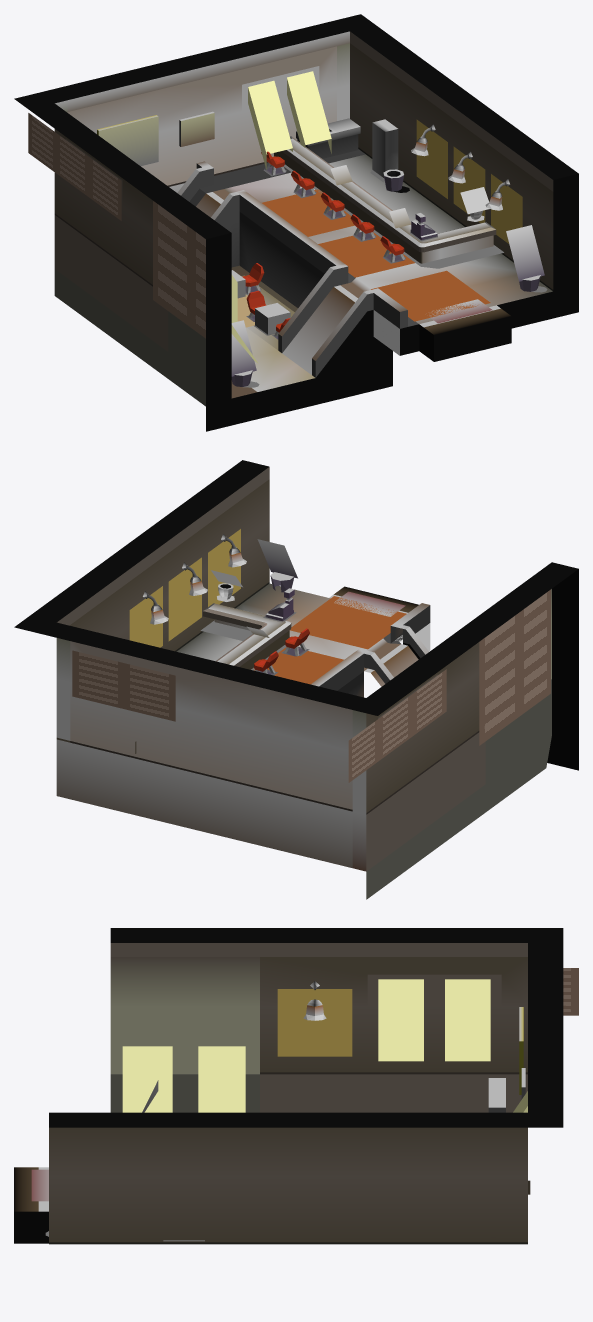
File: cafe_warehouse_interior.obj
3 views of the same model, one above another, from view 1: azimuth 30°, elevation 25°; view 2: azimuth 150°, elevation 25°; view 3: azimuth 270°, elevation 25° (orthographic). The views are drawn at different scales.
Size of the model in its own units: 280 by 148 by 334.
